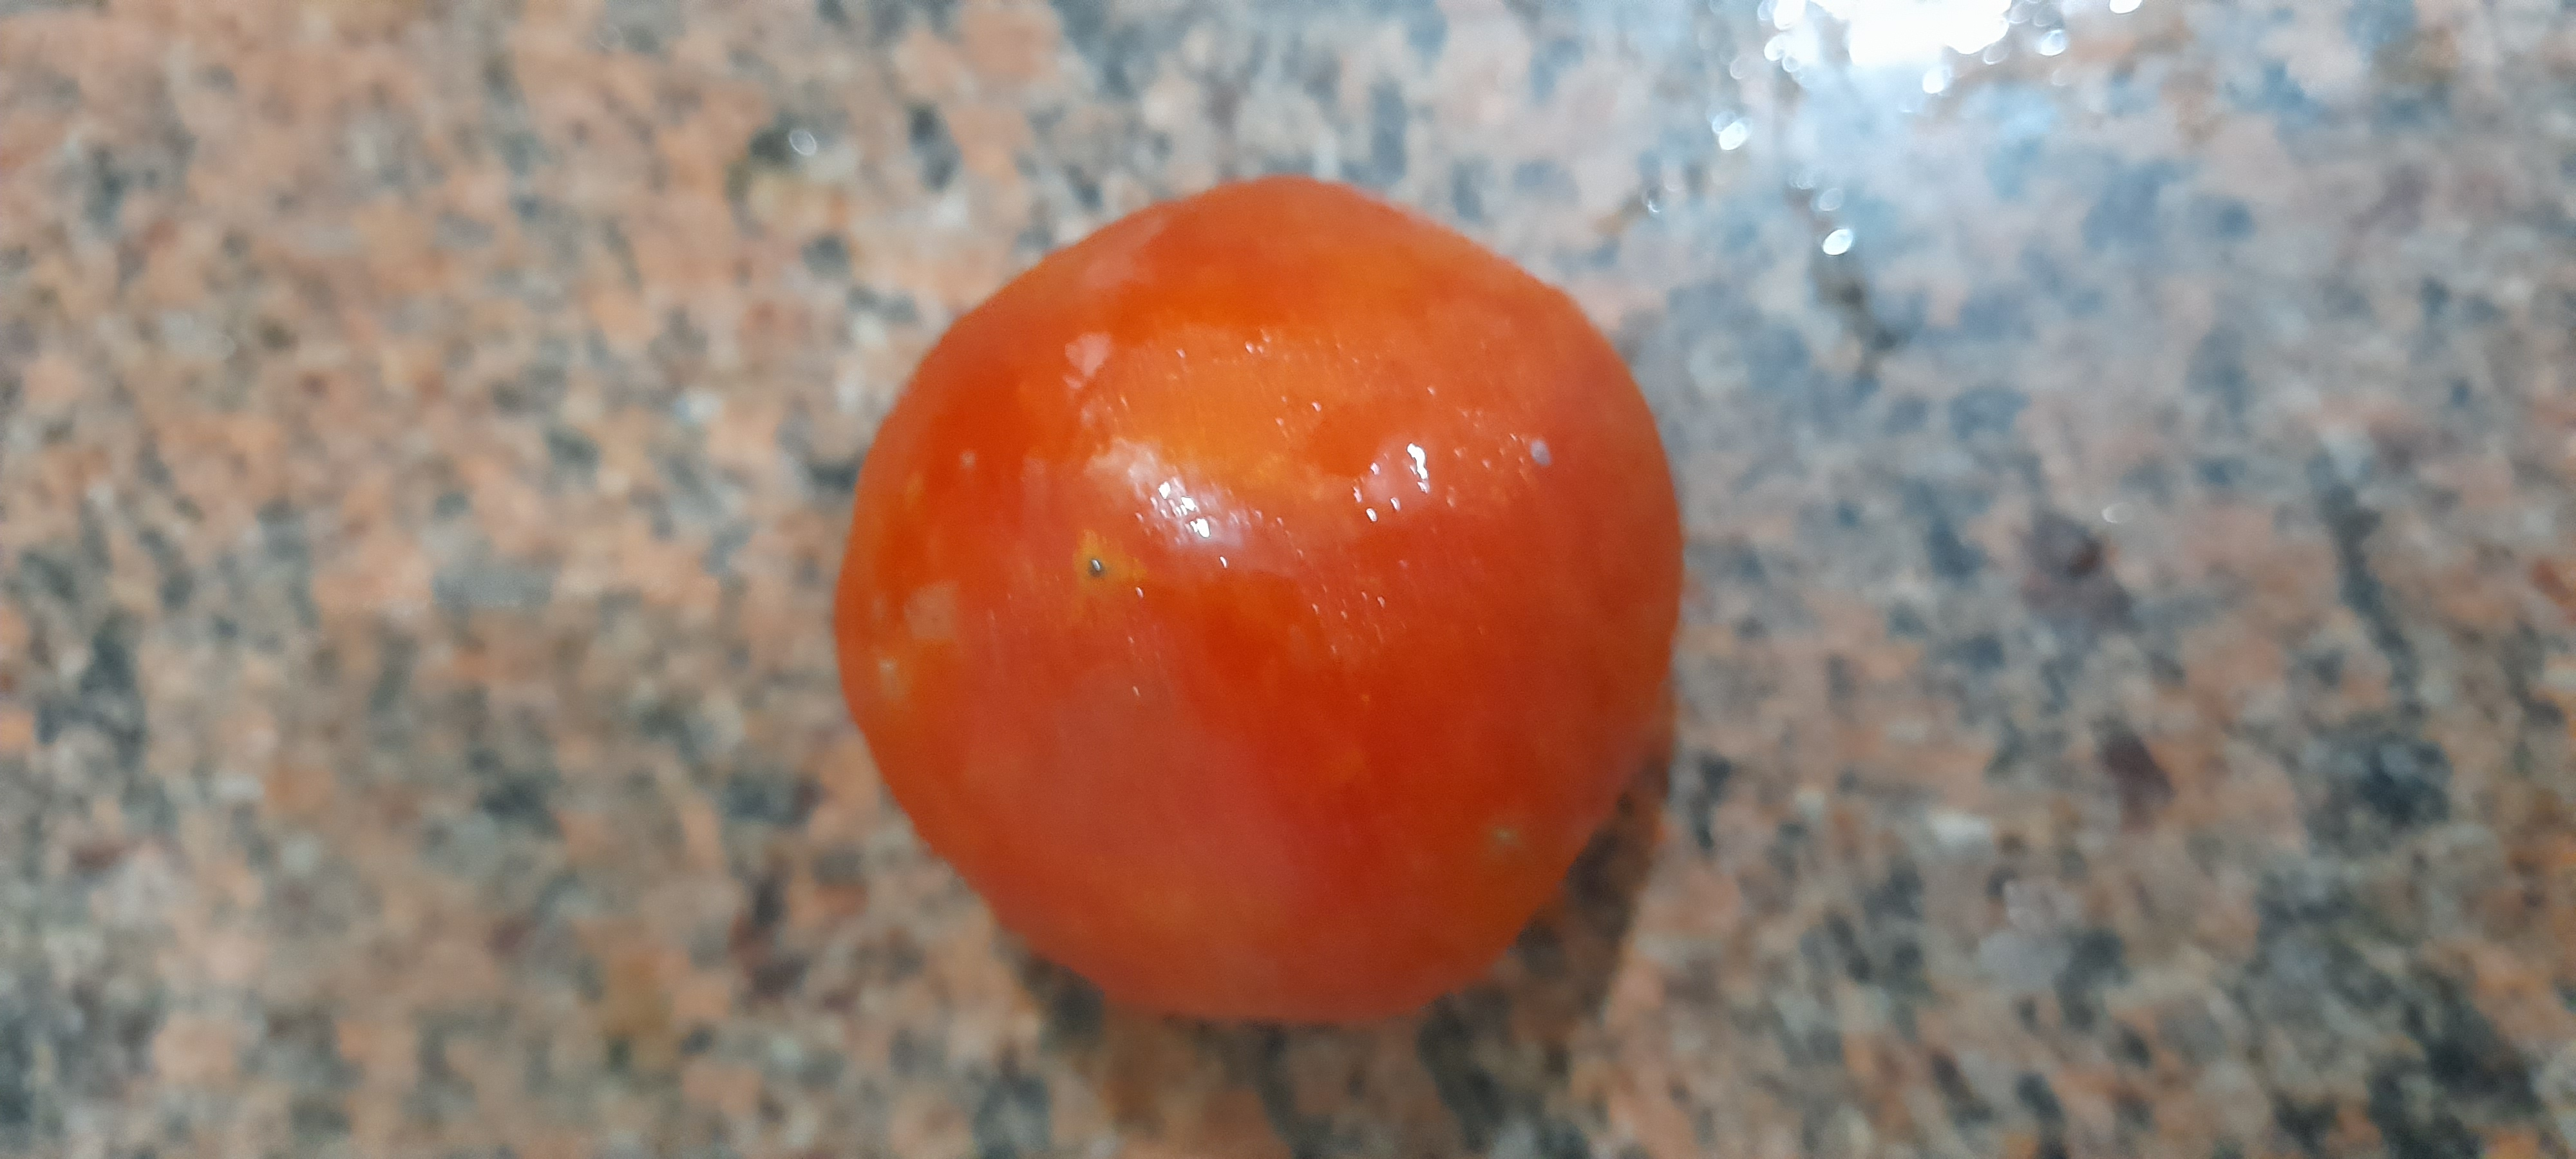tomato: (818, 131, 1723, 1069)
